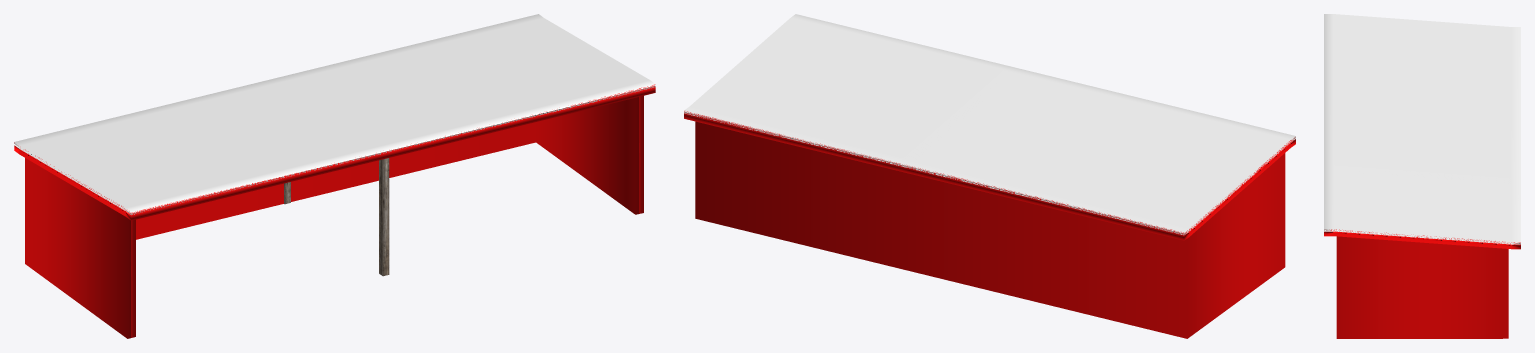
The model's file is bauernhof_stall_01.fbx.
3 renders of one model, left to right at view 1: azimuth 30°, elevation 25°; view 2: azimuth 150°, elevation 25°; view 3: azimuth 270°, elevation 25°, orthographic. The views are drawn at different scales.
Parts seen in each view (by area): view 1: stall, colmesh; view 2: stall, colmesh; view 3: stall, colmesh.
Part boxes in pixels (x1,y1,x2,y2): stall: (14,14,655,276); colmesh: (14,84,655,338); stall: (684,14,1295,235); colmesh: (684,111,1295,338); stall: (1324,14,1520,244); colmesh: (1324,229,1520,338).
Bounding box in the file's own units: 1125 × 273 × 435.
